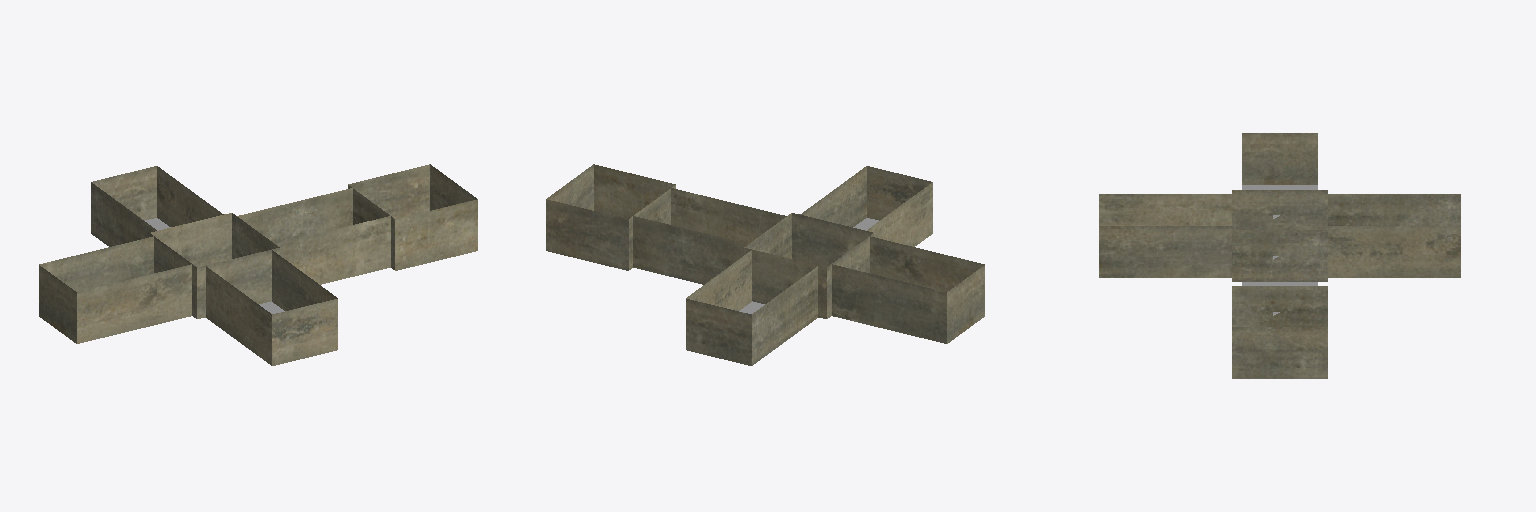
3 views of the same model, side by side, from view 1: azimuth 30°, elevation 25°; view 2: azimuth 150°, elevation 25°; view 3: azimuth 270°, elevation 25° (orthographic).
Visible parts, largest first — view 1: Plane.014, Plane.017, Plane.021, Plane.018, Plane.015, Plane.002, Plane.031, Plane.019, Plane.003, Plane.013, Plane.001, Plane.012 (+9 smaller); view 2: Plane.015, Plane.018, Plane.019, Plane.017, Plane.014, Plane.003, Plane.012, Plane.021, Plane.002, Plane.001, Plane.013, Plane.031 (+9 smaller); view 3: Plane.013, Plane.001, Plane.020, Plane.003, Plane.002, Plane.016, Plane.026, Plane.025, Plane.022, Plane.029, Plane.024, Plane.004.
Boxes of the visible parts, x1=… form: Plane.014: x1=77, y1=264, x2=191, y2=343; Plane.017: x1=276, y1=216, x2=390, y2=284; Plane.021: x1=395, y1=199, x2=477, y2=270; Plane.018: x1=237, y1=188, x2=352, y2=243; Plane.015: x1=39, y1=236, x2=153, y2=291; Plane.002: x1=206, y1=266, x2=271, y2=365; Plane.031: x1=272, y1=299, x2=337, y2=365; Plane.019: x1=348, y1=164, x2=429, y2=218; Plane.003: x1=91, y1=182, x2=156, y2=246; Plane.013: x1=157, y1=166, x2=223, y2=226; Plane.001: x1=272, y1=250, x2=337, y2=310; Plane.012: x1=92, y1=166, x2=156, y2=220; Plane.015: x1=832, y1=264, x2=946, y2=343; Plane.018: x1=633, y1=216, x2=747, y2=284; Plane.019: x1=546, y1=199, x2=628, y2=270; Plane.017: x1=671, y1=188, x2=786, y2=253; Plane.014: x1=870, y1=236, x2=984, y2=291; Plane.003: x1=752, y1=266, x2=817, y2=365; Plane.012: x1=686, y1=299, x2=751, y2=365; Plane.021: x1=594, y1=164, x2=675, y2=218; Plane.002: x1=867, y1=182, x2=932, y2=246; Plane.001: x1=800, y1=166, x2=866, y2=226; Plane.013: x1=686, y1=250, x2=751, y2=310; Plane.031: x1=867, y1=166, x2=931, y2=220; Plane.013: x1=1328, y1=226, x2=1460, y2=277; Plane.001: x1=1099, y1=226, x2=1231, y2=277; Plane.020: x1=1232, y1=327, x2=1327, y2=378; Plane.003: x1=1328, y1=194, x2=1460, y2=225; Plane.002: x1=1099, y1=194, x2=1231, y2=225; Plane.016: x1=1242, y1=133, x2=1317, y2=184; Plane.026: x1=1232, y1=230, x2=1326, y2=281; Plane.025: x1=1234, y1=230, x2=1327, y2=281; Plane.022: x1=1232, y1=286, x2=1327, y2=326; Plane.029: x1=1232, y1=190, x2=1325, y2=229; Plane.024: x1=1254, y1=287, x2=1327, y2=326; Plane.004: x1=1255, y1=190, x2=1327, y2=229.
Bounding box in the file's own units: 24 × 3 × 19.
2 materials, 1 textured.